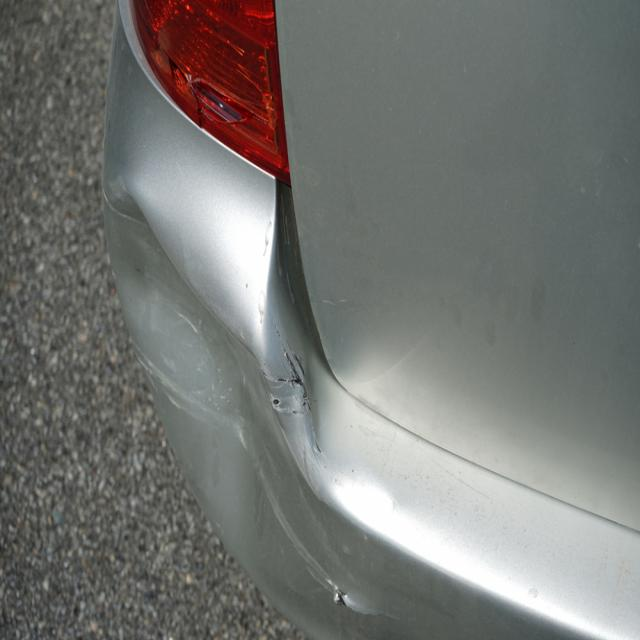Cabossage: (105, 175, 280, 625)
Dechirure: (328, 563, 352, 615)
Rayure: (264, 348, 318, 424)
